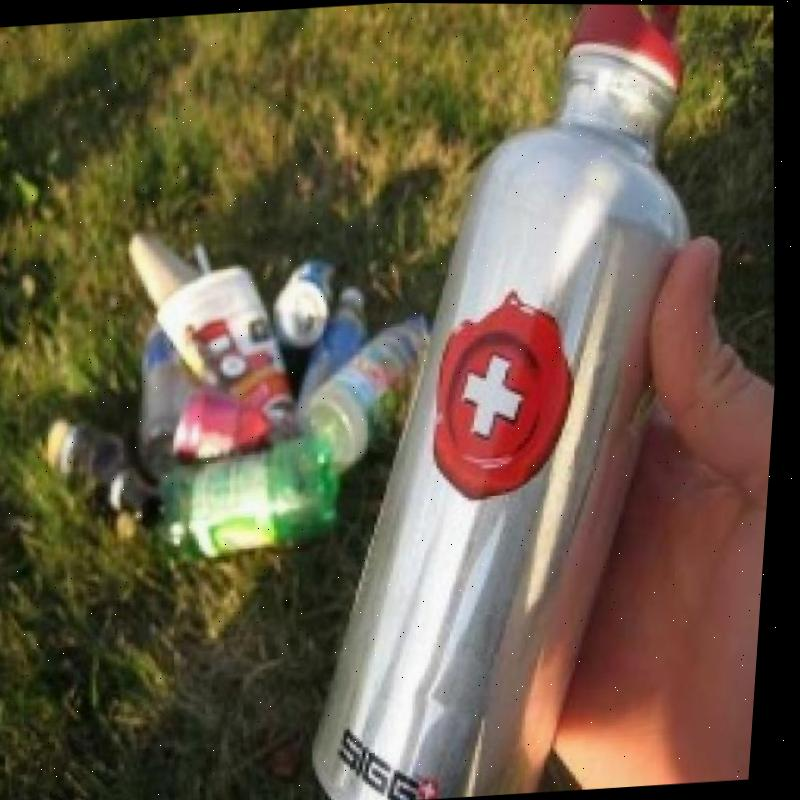botella: (135, 430, 354, 567), (301, 315, 451, 475), (294, 287, 384, 408), (133, 318, 201, 462)
